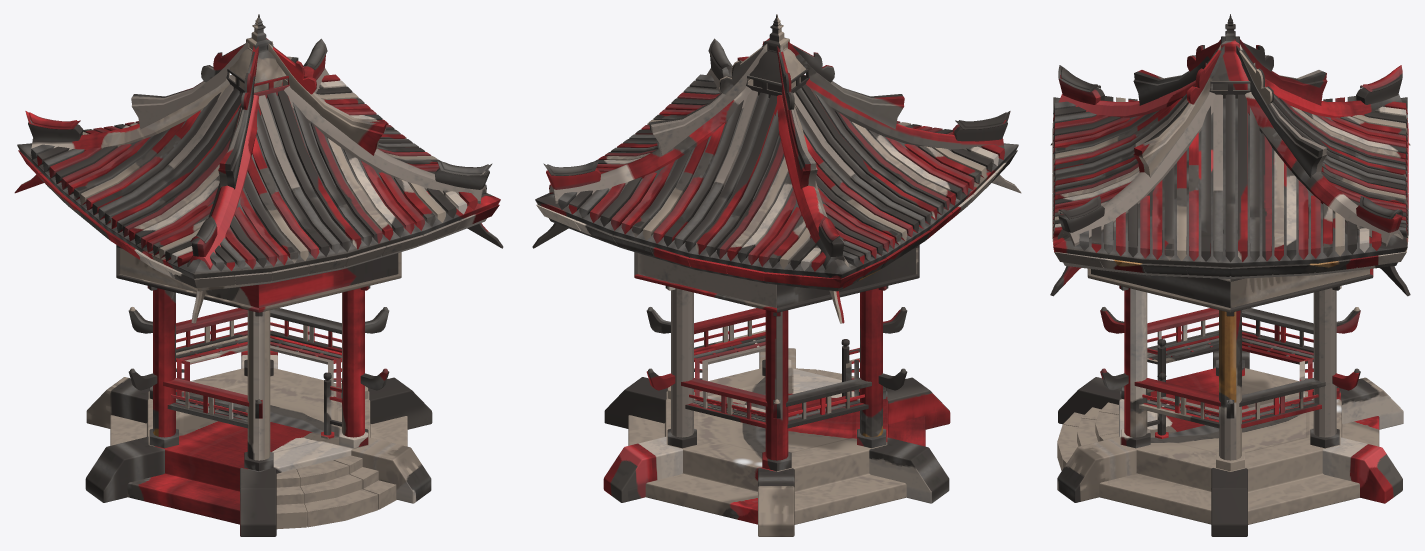
File: pavilion_2.fbx
3 views of the same model, side by side, from view 1: azimuth 30°, elevation 25°; view 2: azimuth 150°, elevation 25°; view 3: azimuth 270°, elevation 25° (orthographic).
Visible parts, largest first — view 1: polySurface137; view 2: polySurface137; view 3: polySurface137.
Boxes of the visible parts, bbox=[...] form: polySurface137: bbox=[14, 14, 503, 536]; polySurface137: bbox=[532, 14, 1021, 536]; polySurface137: bbox=[1050, 14, 1410, 536].
Bounding box in the file's own units: 61.16 × 78.84 × 58.04.
